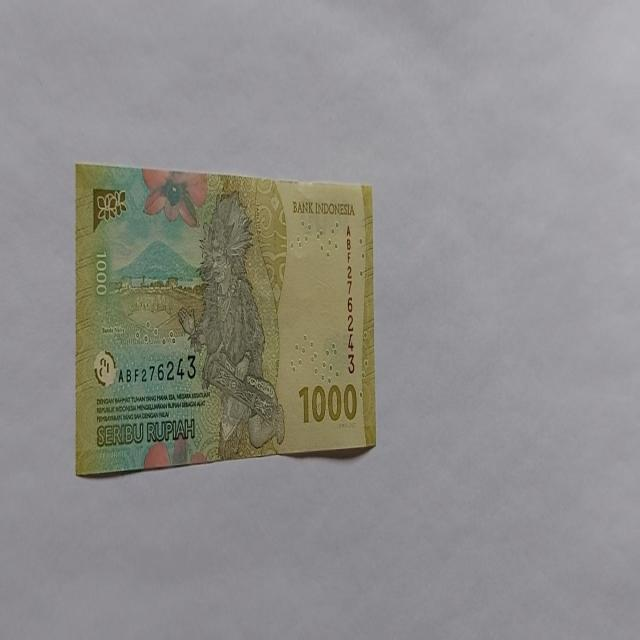seribu rupiah kertas: (74, 162, 376, 476)
